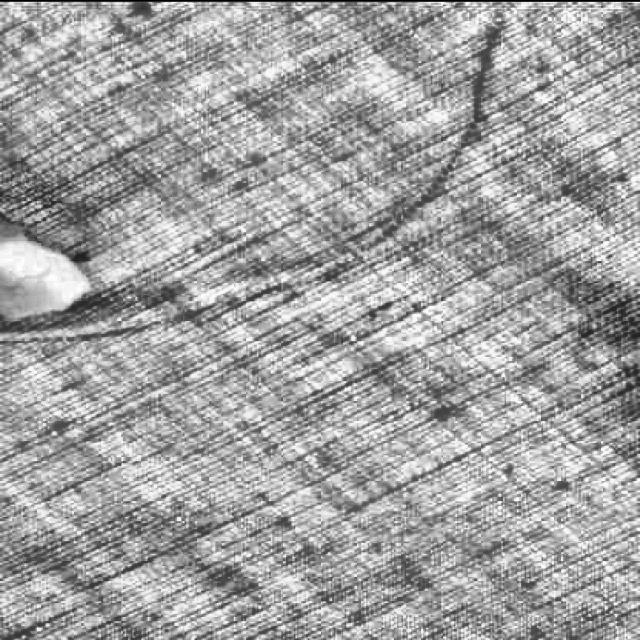objects: (0, 237, 90, 326)
thread_error: (94, 0, 524, 345), (0, 327, 93, 348)
